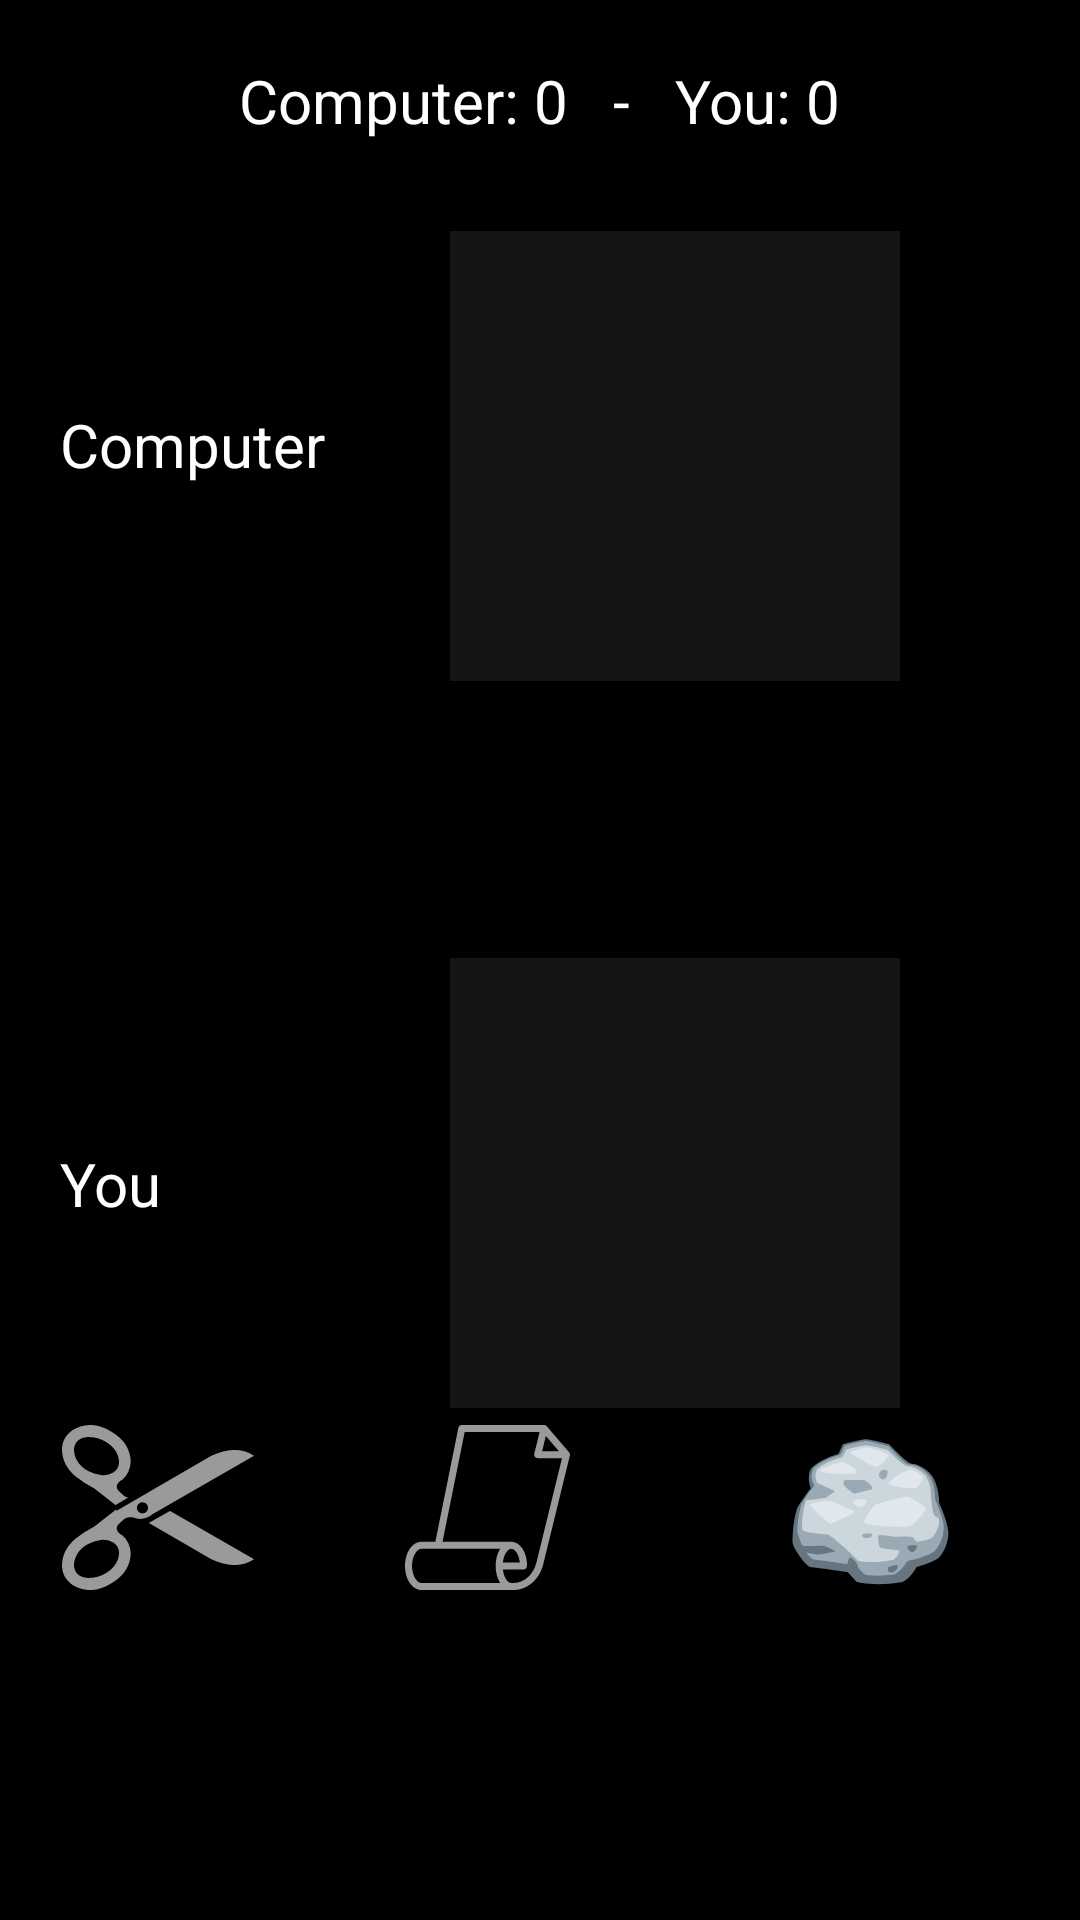

Point at icon controls on the screen. Image size 1080w x 1920h, points as (x,y).
paper: (487,1507)
rock: (870,1512)
scissors: (158,1507)
